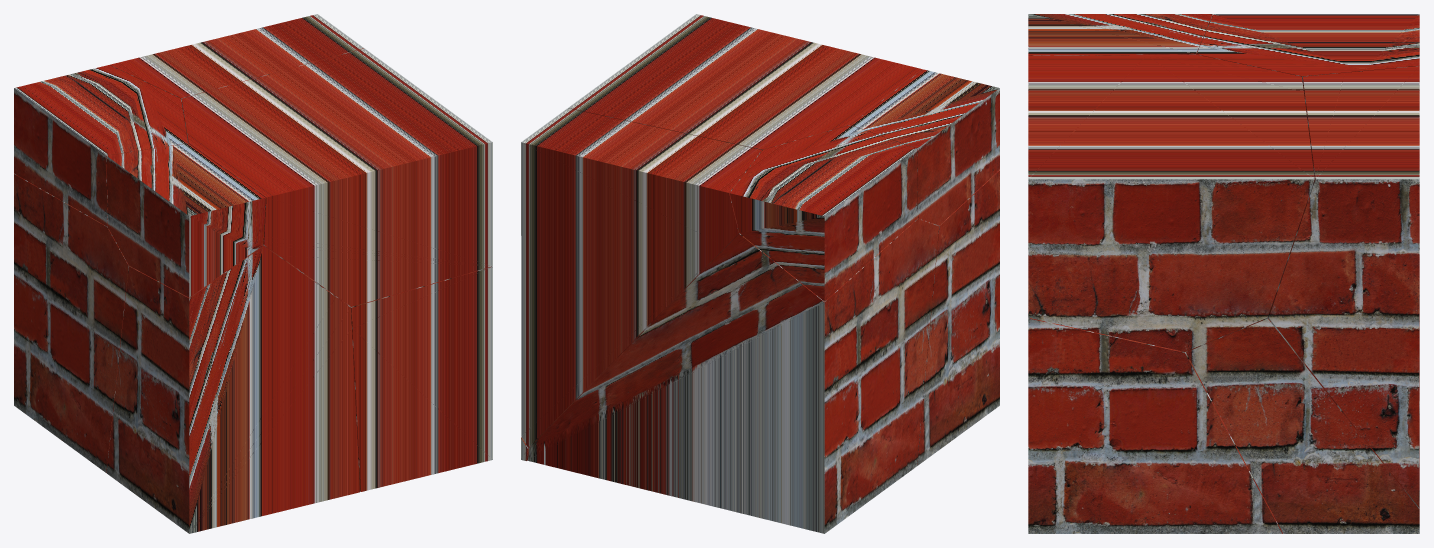
Rendered from BrickWall Cracked.fbx.
3 views of the same model, side by side, from view 1: azimuth 30°, elevation 25°; view 2: azimuth 150°, elevation 25°; view 3: azimuth 270°, elevation 25° (orthographic). The views are drawn at different scales.
Visible parts, largest first — view 1: Wall_cell, Wall_cell.003, Wall_cell.001, Wall_cell.006, Wall_cell.002, Wall_cell.004, Wall_cell.005; view 2: Wall_cell.006, Wall_cell.005, Wall_cell.003, Wall_cell.004, Wall_cell, Wall_cell.002; view 3: Wall_cell.003, Wall_cell.005, Wall_cell.001, Wall_cell.007, Wall_cell.004, Wall_cell.002.
Part boxes in pixels (x1=…): Wall_cell: x1=106, y1=245, x2=359, y2=533; Wall_cell.003: x1=181, y1=48, x2=492, y2=306; Wall_cell.001: x1=349, y1=266, x2=492, y2=491; Wall_cell.006: x1=14, y1=174, x2=128, y2=472; Wall_cell.002: x1=106, y1=143, x2=265, y2=297; Wall_cell.004: x1=14, y1=65, x2=187, y2=226; Wall_cell.005: x1=110, y1=14, x2=363, y2=101; Wall_cell.006: x1=527, y1=218, x2=938, y2=533; Wall_cell.005: x1=521, y1=108, x2=762, y2=447; Wall_cell.003: x1=568, y1=14, x2=922, y2=150; Wall_cell.004: x1=729, y1=125, x2=917, y2=301; Wall_cell: x1=917, y1=170, x2=999, y2=465; Wall_cell.002: x1=851, y1=69, x2=999, y2=225; Wall_cell.003: x1=1028, y1=54, x2=1314, y2=351; Wall_cell.005: x1=1267, y1=66, x2=1419, y2=508; Wall_cell.001: x1=1028, y1=318, x2=1282, y2=533; Wall_cell.007: x1=1186, y1=318, x2=1419, y2=533; Wall_cell.004: x1=1196, y1=14, x2=1419, y2=77; Wall_cell.002: x1=1028, y1=14, x2=1212, y2=55.
Bounding box in the file's own units: 100 × 100 × 100.
